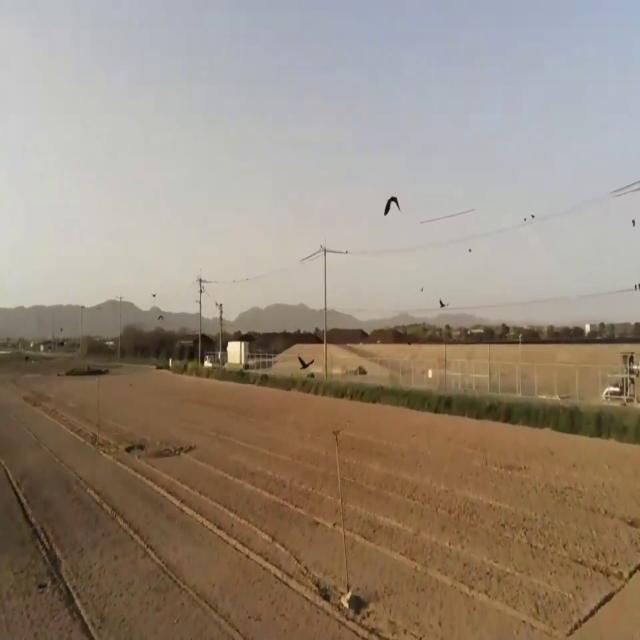bird: (383, 184, 401, 230), (296, 344, 315, 381), (438, 291, 447, 313)
